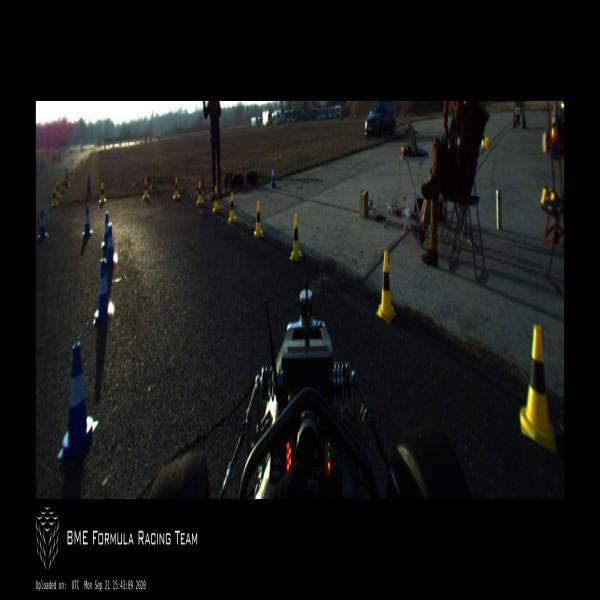blue_cone: (57, 342, 98, 457), (93, 260, 111, 326), (105, 224, 114, 264), (82, 206, 92, 238), (102, 211, 110, 248), (38, 209, 48, 238), (271, 164, 276, 188)
large_orange_cone: (66, 166, 68, 188)
unknown_cone: (150, 163, 157, 193), (85, 174, 93, 196), (200, 165, 204, 188)
yellow_cone: (520, 323, 556, 454), (376, 251, 396, 323), (289, 214, 302, 262), (254, 199, 263, 238), (228, 192, 236, 225), (212, 184, 220, 214), (196, 181, 203, 206), (173, 176, 180, 200), (142, 179, 149, 202), (99, 183, 106, 202), (52, 185, 58, 207), (551, 116, 556, 139), (57, 182, 60, 198), (62, 177, 65, 192)
